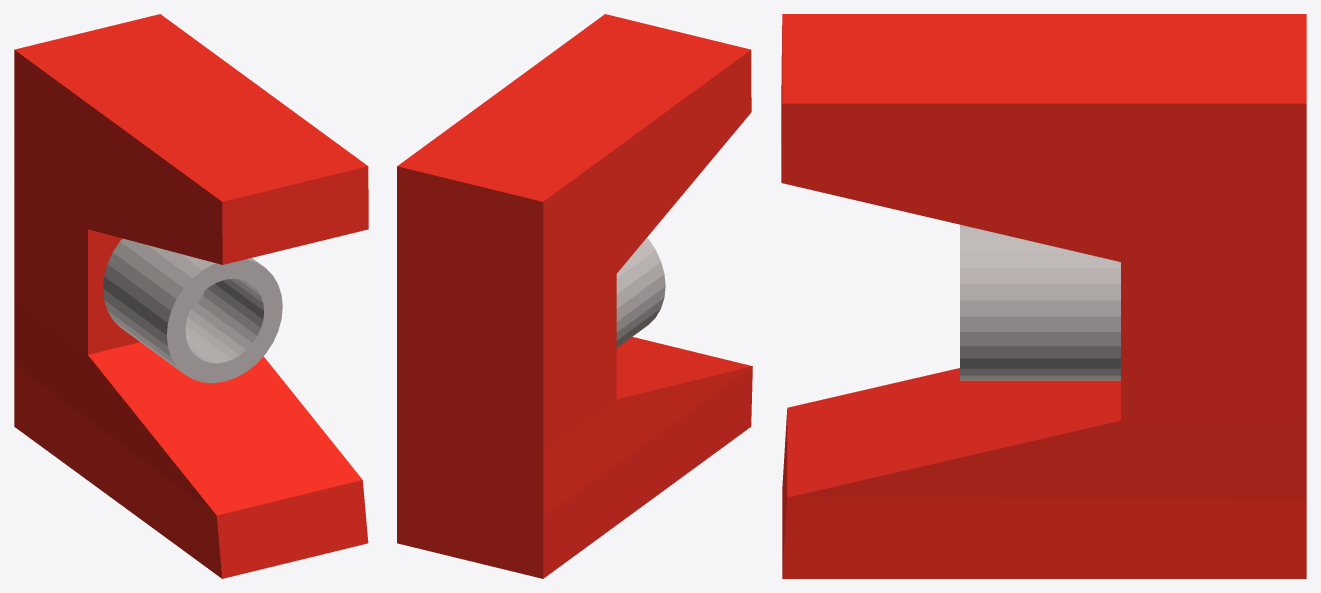
Rendered from MultiTool.fbx.
3 views of the same model, side by side, from view 1: azimuth 30°, elevation 25°; view 2: azimuth 150°, elevation 25°; view 3: azimuth 270°, elevation 25° (orthographic). The views are drawn at different scales.
Parts seen in each view (by area): view 1: Cube, Cylinder; view 2: Cube, Cylinder; view 3: Cube, Cylinder.
Boxes of the visible parts, x1,y1,x2,y2 form: Cube: (14, 14, 368, 578); Cylinder: (103, 238, 282, 383); Cube: (397, 14, 752, 578); Cylinder: (616, 237, 665, 347); Cube: (781, 14, 1306, 578); Cylinder: (960, 224, 1120, 380).
Size of the model in its own units: 83.08 by 200 by 200.
